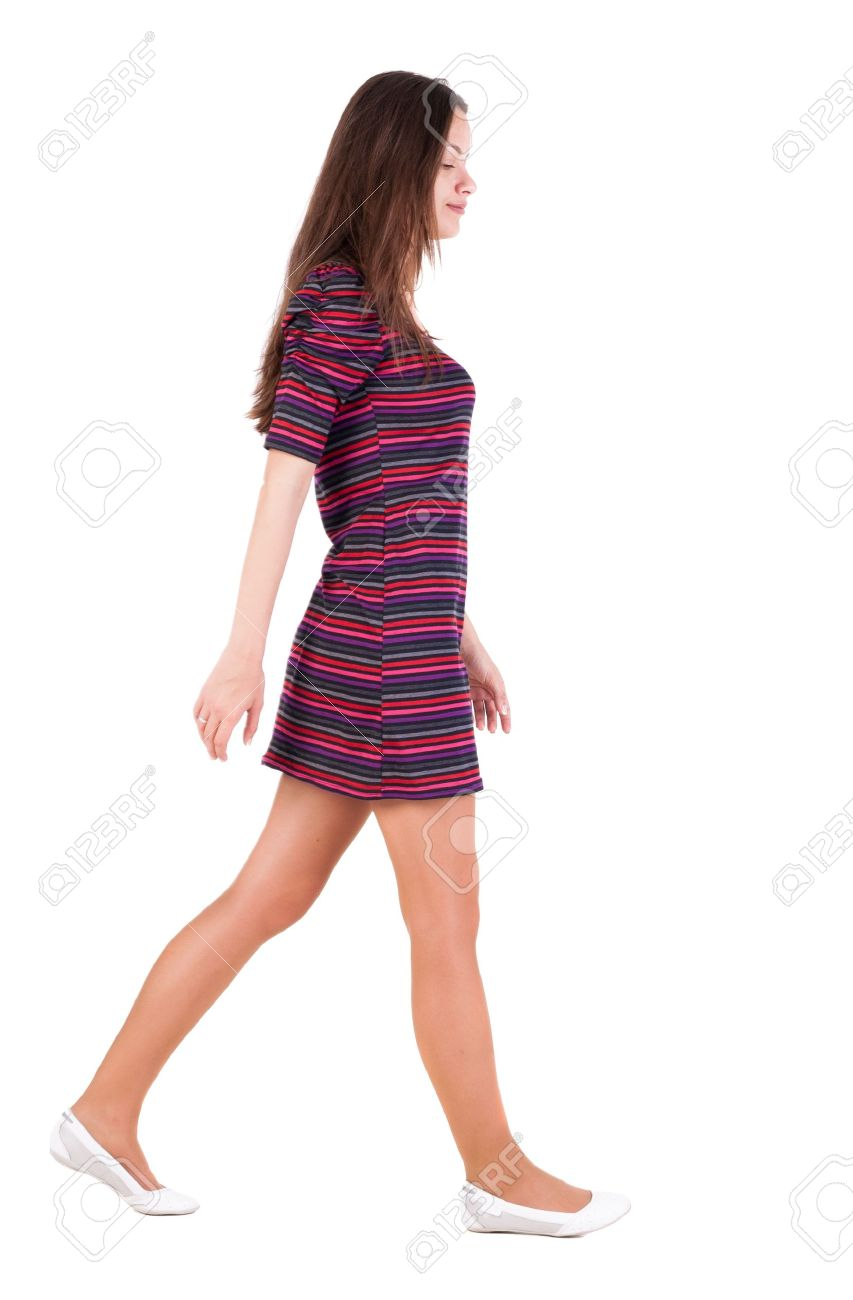Person: (42, 70, 644, 1251)
